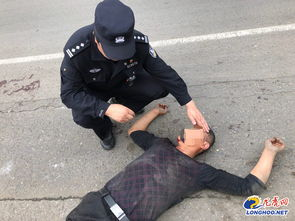fall: (39, 97, 290, 220)
